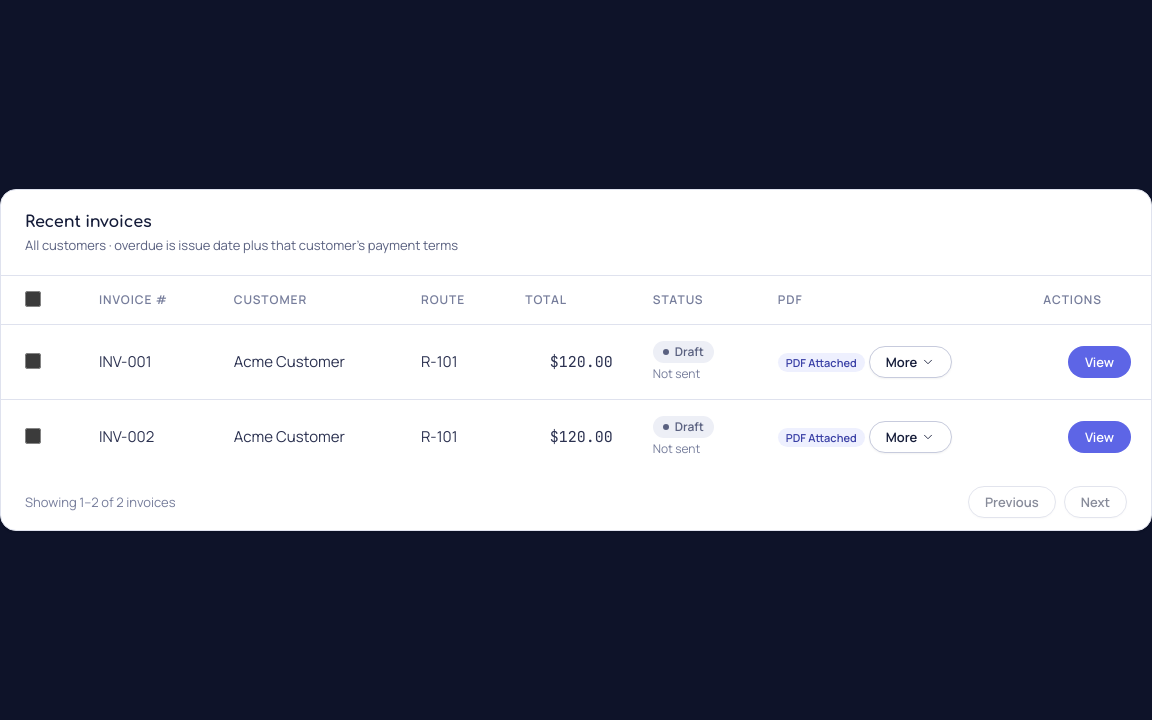
Test: InvoiceListTable › reports partial bulk mark-paid failures in an error toast
Click the checkbox named "Select all unpaid invoices on this page". click: (33, 299)
box: [25, 291, 41, 307]
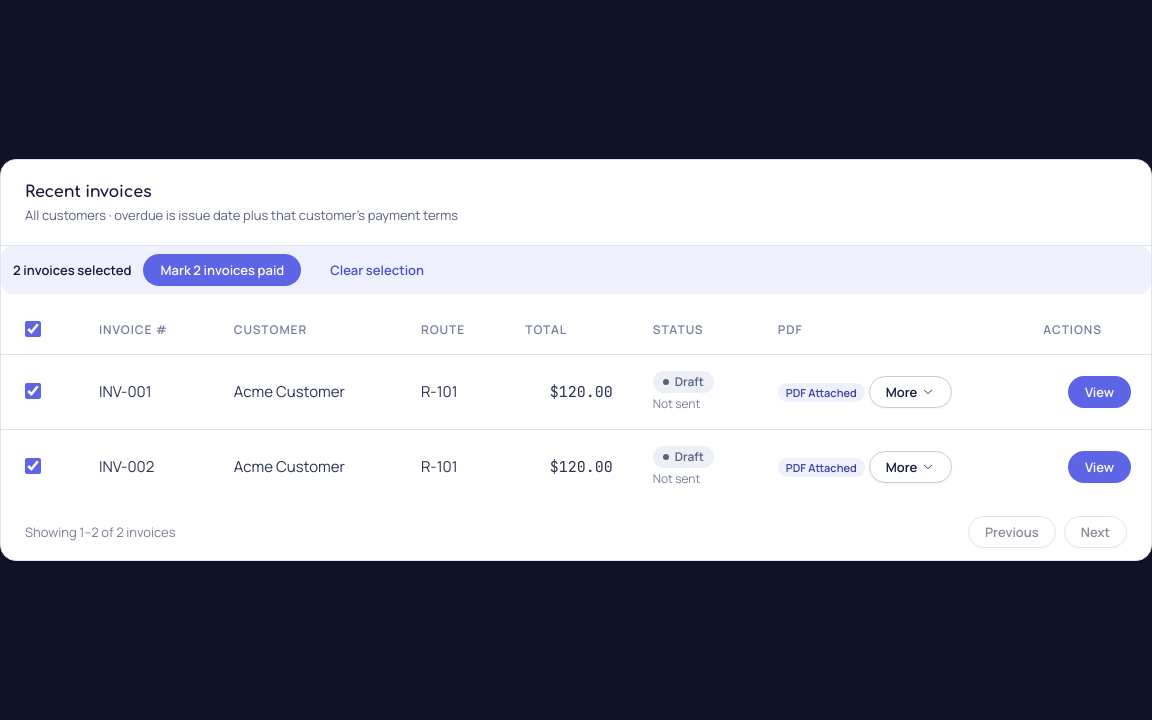
Click the button "Mark 2 invoices paid". click: (222, 270)
box: [143, 254, 301, 286]
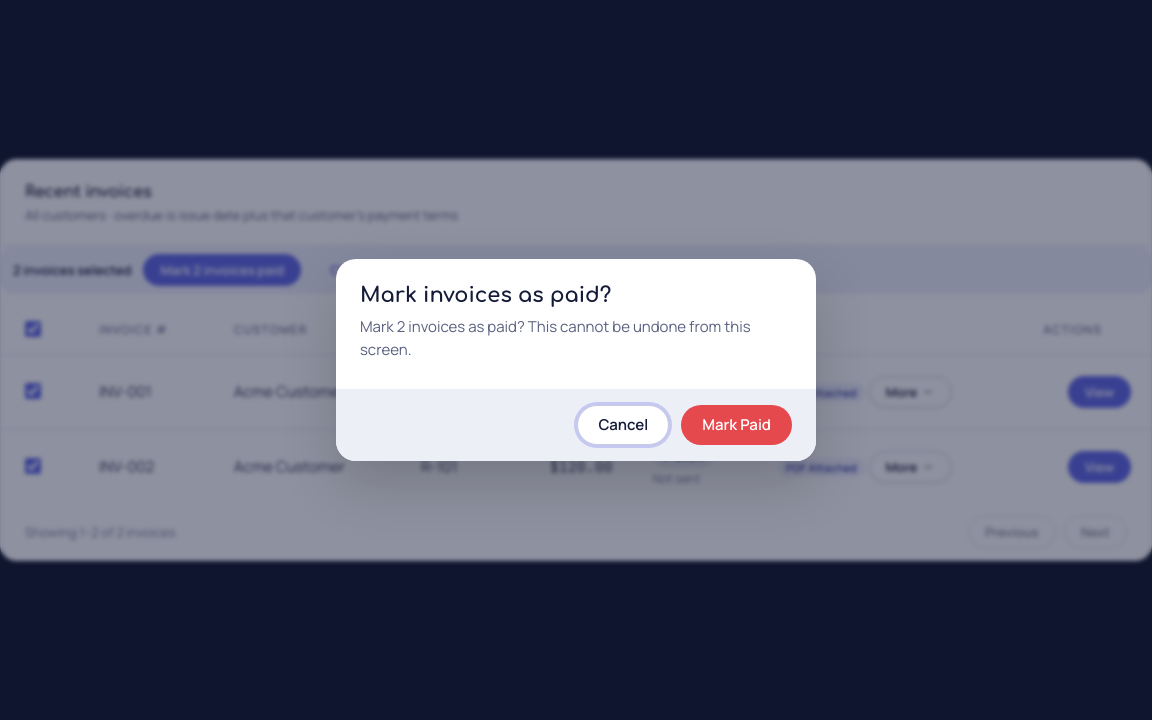
Click the button "Mark Paid". click: (737, 425)
box: [681, 405, 792, 445]
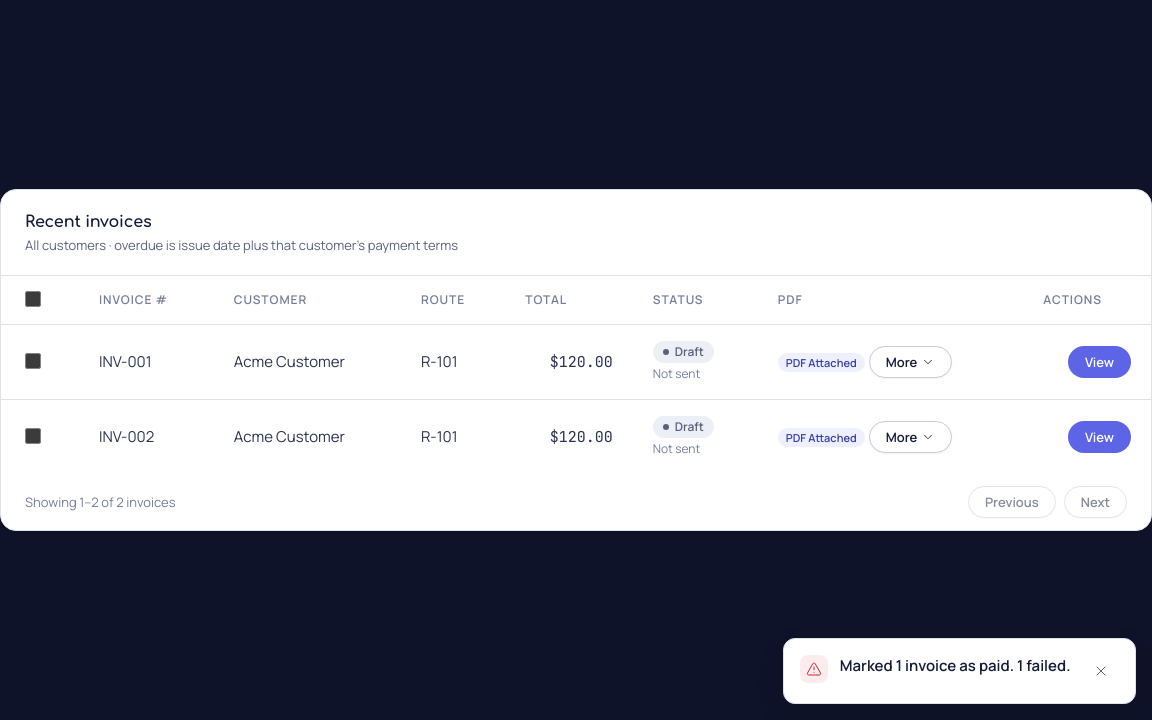
expect the text "Marked 1 invoice as paid. 1 failed." is shown: met, box [840, 655, 1070, 678]
